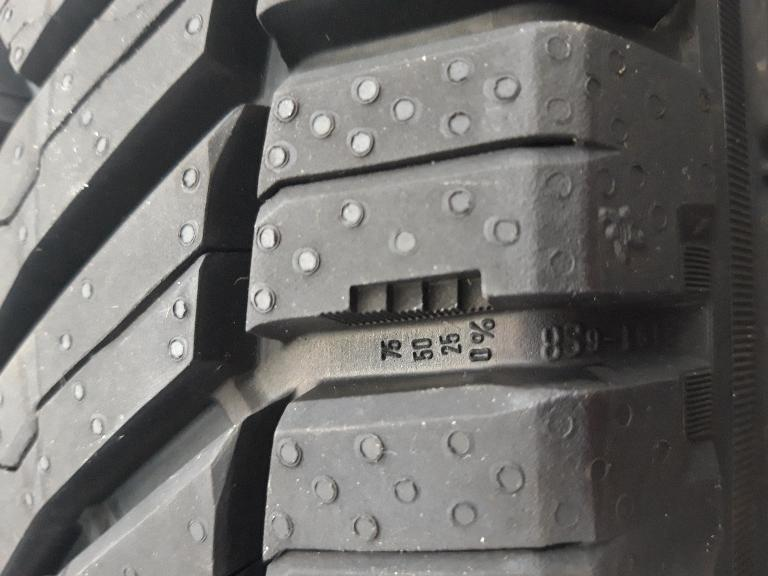temoin:100: (317, 266, 507, 330)
